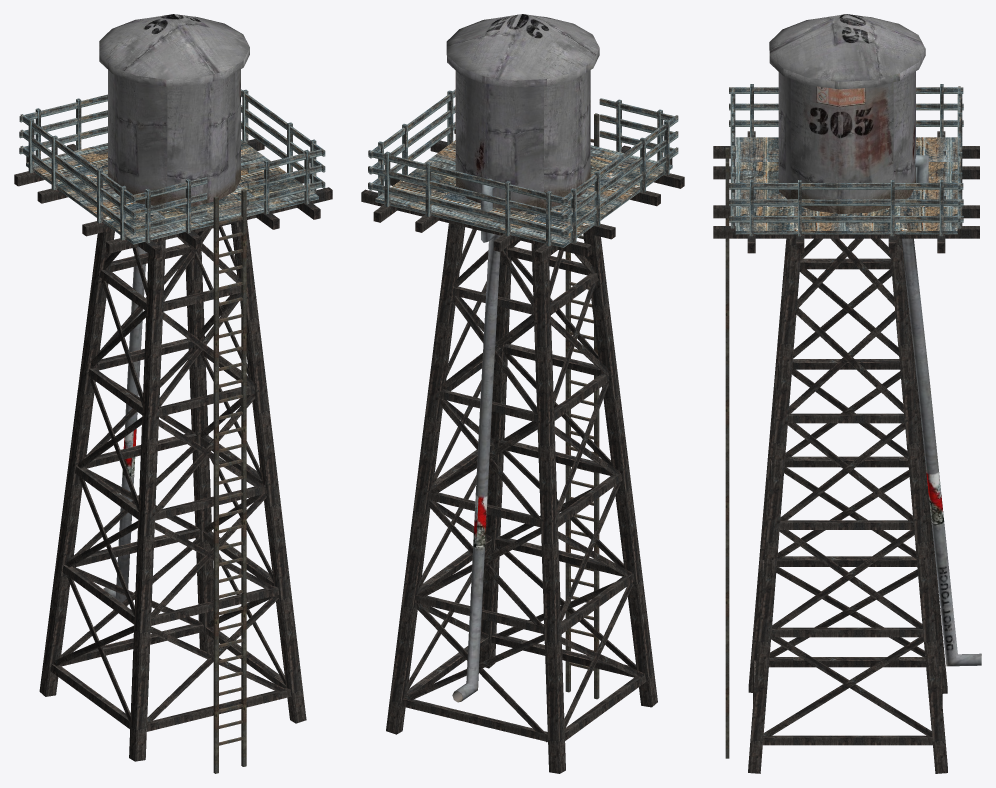
File: watertower.glb
3 renders of one model, left to right at view 1: azimuth 30°, elevation 25°; view 2: azimuth 150°, elevation 25°; view 3: azimuth 270°, elevation 25°, orthographic. The views are drawn at different scales.
Parts seen in each view (by area): view 1: m; view 2: m; view 3: m.
Part boxes in pixels (x1=…): m: x1=14, y1=14, x2=332, y2=773; m: x1=361, y1=14, x2=684, y2=773; m: x1=713, y1=14, x2=981, y2=773.
Size of the model in its own units: 5.24 by 16 by 5.28.
Materials: 5 (5 with a texture image).
